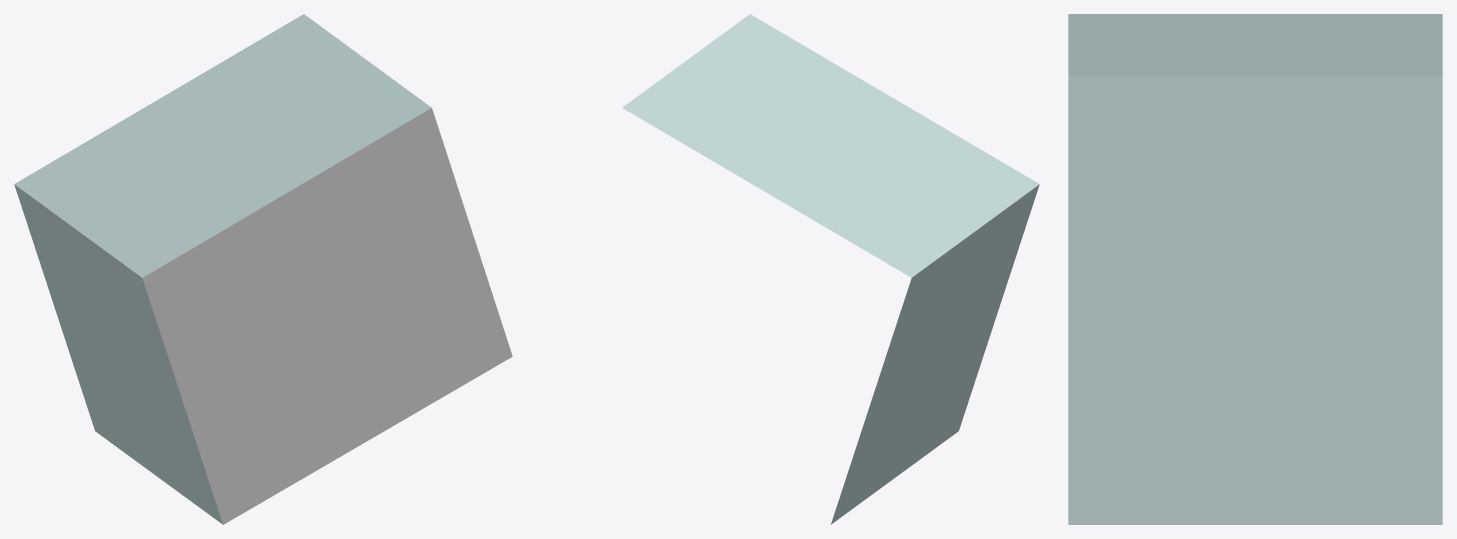
3 renders of one model, left to right at view 1: azimuth 30°, elevation 25°; view 2: azimuth 150°, elevation 25°; view 3: azimuth 270°, elevation 25°, orthographic. The views are drawn at different scales.
Parts seen in each view (by area): view 1: 0_2_2_3_1_1_2_3_1; view 2: 0_2_2_3_1_1_2_3_1; view 3: 0_2_2_3_1_1_2_3_1.
Part boxes in pixels (x1,y1,x2,y2): 0_2_2_3_1_1_2_3_1: (14, 14, 512, 524); 0_2_2_3_1_1_2_3_1: (622, 14, 1039, 524); 0_2_2_3_1_1_2_3_1: (1068, 14, 1442, 524).
Size of the model in its own units: 5.01 by 4.73 by 3.
